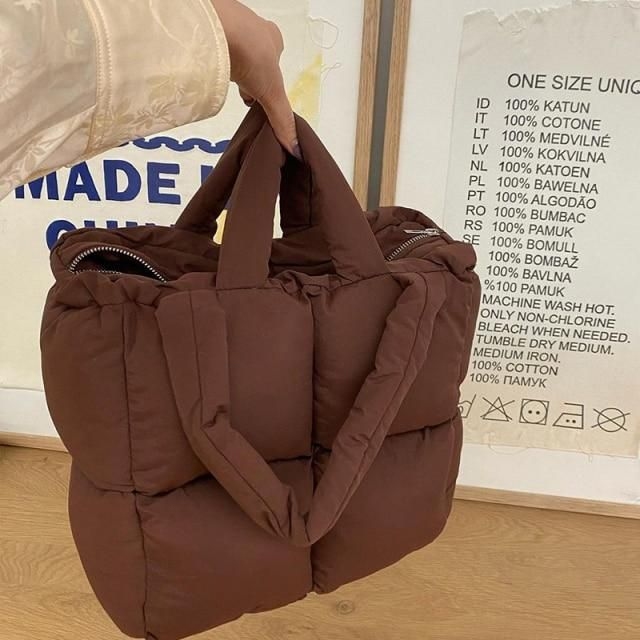nylon: (40, 102, 481, 640)
